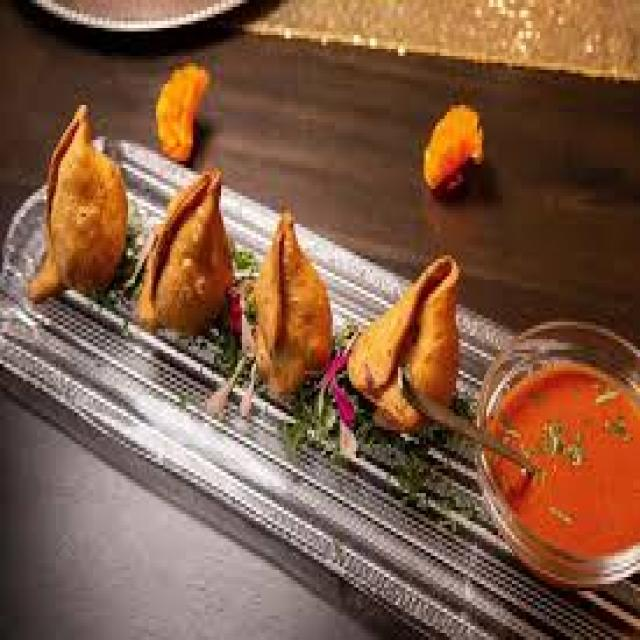SAMOSA: (347, 255, 458, 427), (28, 105, 126, 294), (140, 168, 230, 332), (254, 210, 328, 392)
